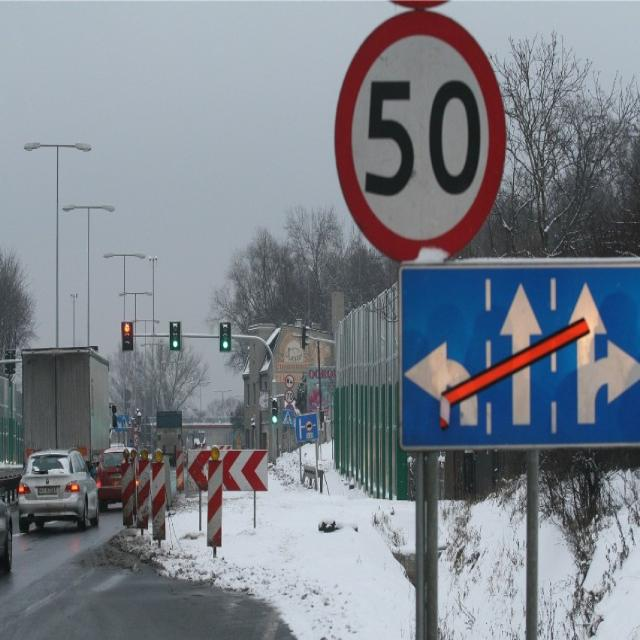Speed Limit -50-: (361, 76, 481, 198)
Speed Limit -70-: (287, 393, 292, 400)
